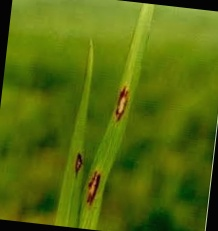Brown_Spot: (81, 165, 111, 201), (114, 80, 127, 119), (72, 145, 87, 174)
